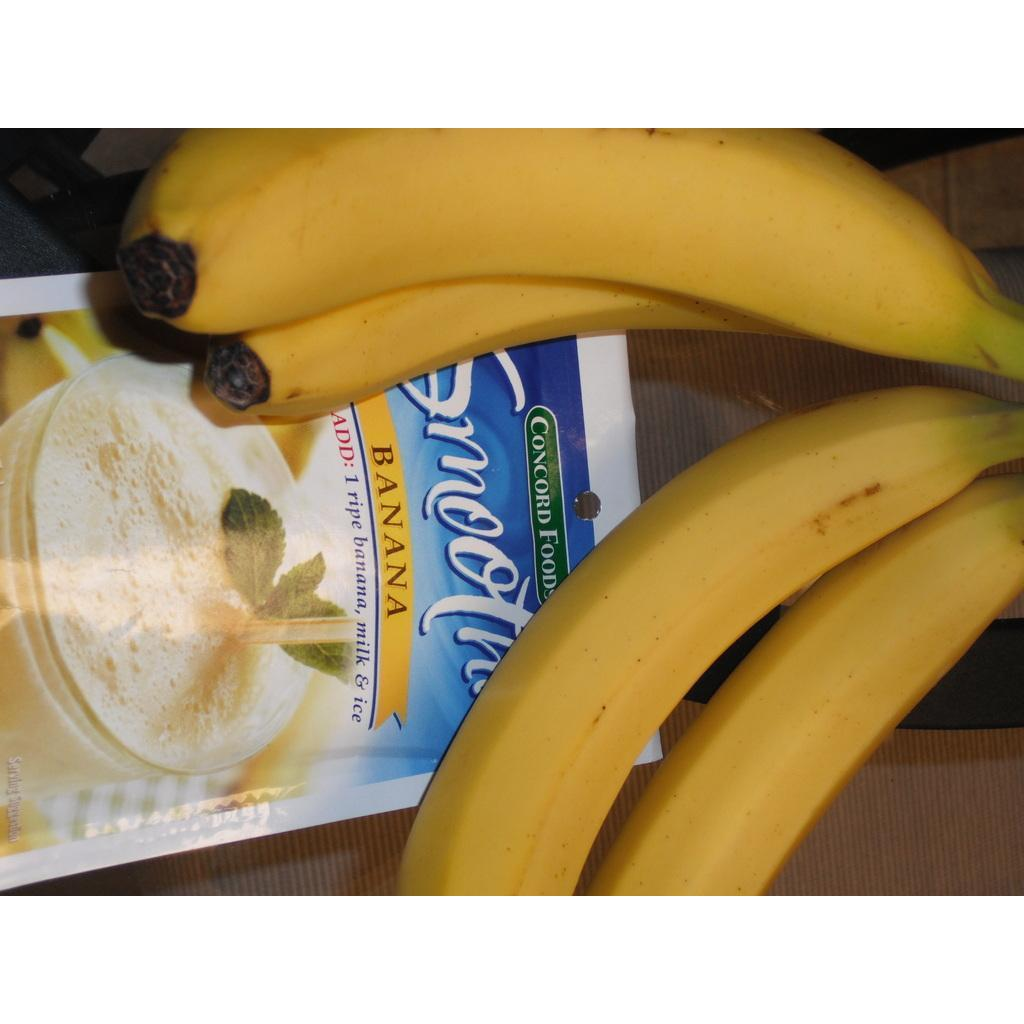banana: (395, 389, 1024, 896), (115, 128, 1024, 371)
